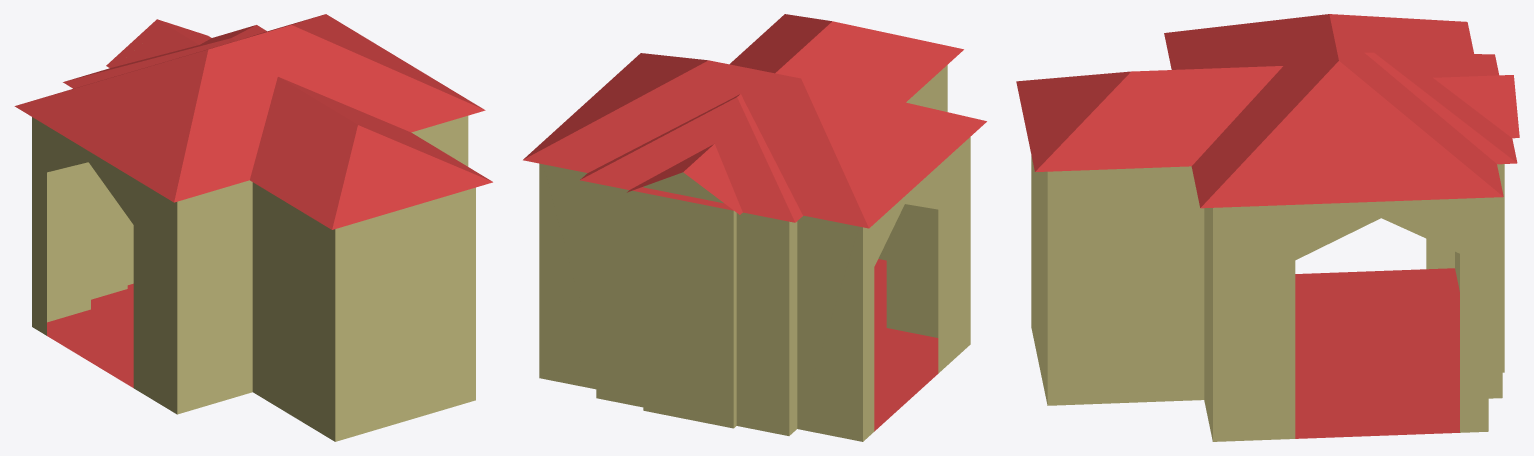
3 views of the same model, side by side, from view 1: azimuth 30°, elevation 25°; view 2: azimuth 150°, elevation 25°; view 3: azimuth 270°, elevation 25° (orthographic). The views are drawn at different scales.
Size of the model in its own units: 23.9 by 27.28 by 18.99.
